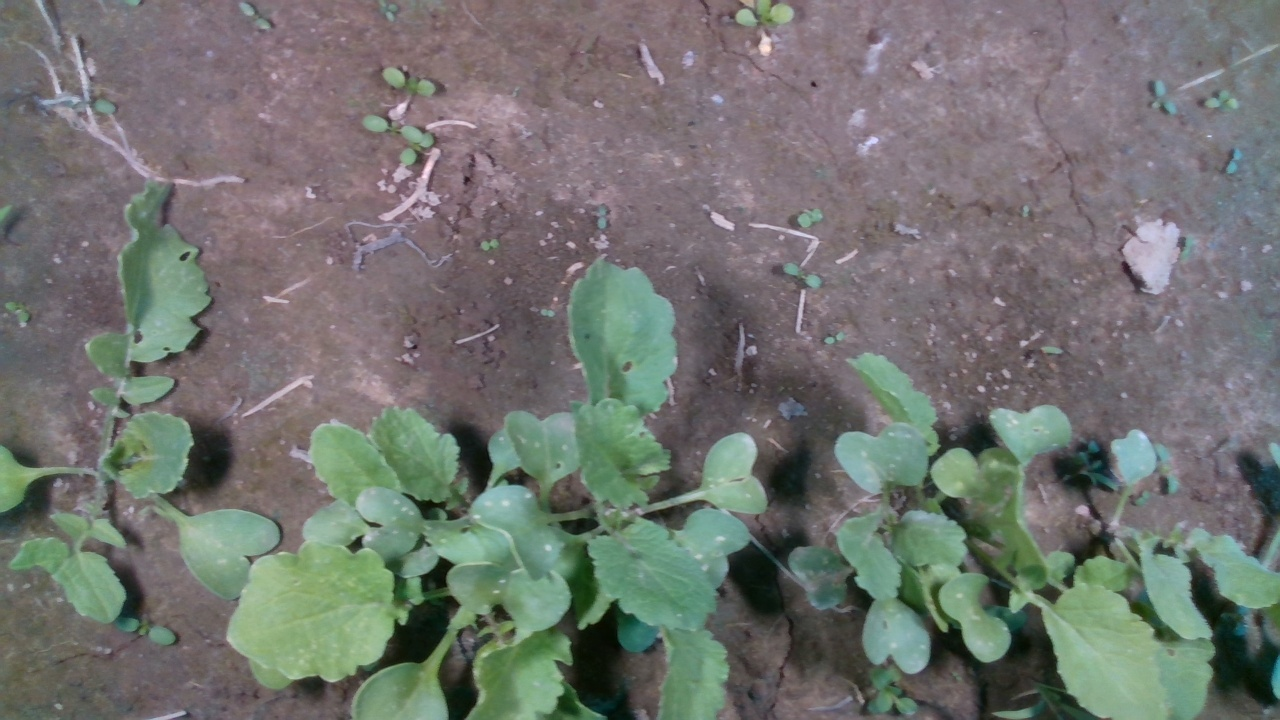weed: (381, 66, 438, 97), (782, 260, 823, 291), (1149, 79, 1179, 119), (237, 0, 272, 30), (1201, 86, 1240, 111), (795, 207, 824, 228), (1225, 145, 1242, 176), (594, 202, 608, 231), (822, 331, 845, 345), (479, 238, 499, 252)
